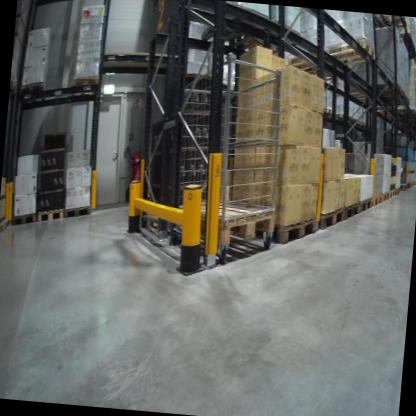pallet: (175, 190, 276, 248), (249, 208, 318, 249), (319, 34, 379, 78), (278, 47, 340, 86), (68, 67, 101, 102), (18, 80, 51, 112), (366, 80, 403, 105), (315, 204, 346, 233), (35, 205, 65, 233), (60, 202, 93, 225), (10, 210, 40, 232), (374, 15, 411, 30), (343, 198, 362, 223), (356, 196, 374, 217), (10, 74, 21, 101), (332, 110, 350, 124), (0, 216, 10, 237), (378, 191, 391, 207), (371, 193, 384, 208), (325, 106, 337, 118), (398, 182, 410, 193), (388, 187, 397, 199), (395, 186, 402, 197)
